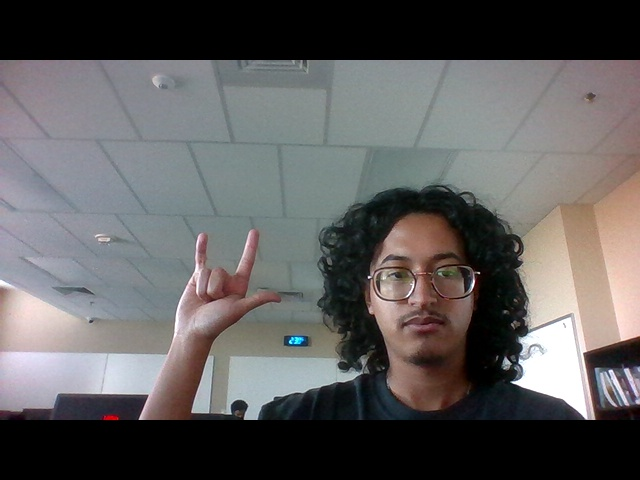iloveyou: (163, 220, 299, 352)
